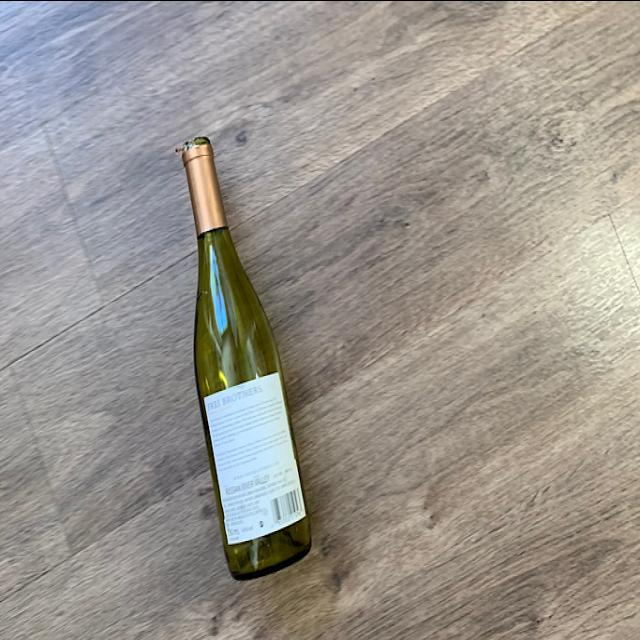litter: (176, 127, 316, 582)
